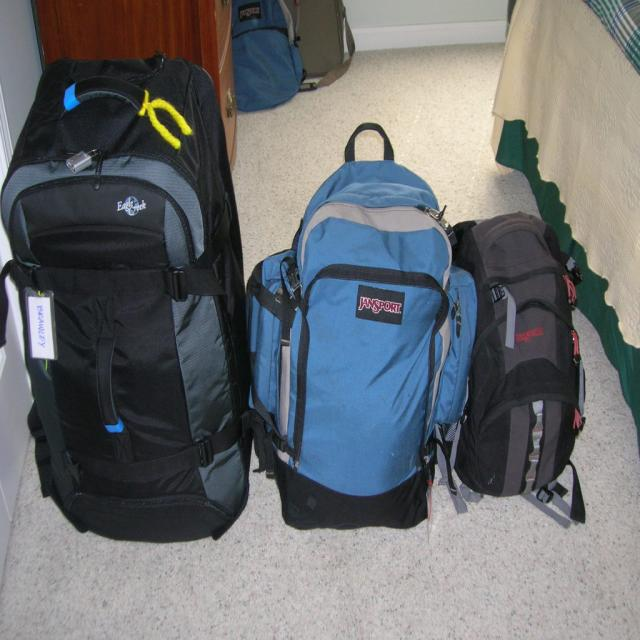backpack: (3, 61, 250, 532), (247, 127, 472, 534), (441, 212, 585, 498), (222, 1, 306, 106), (292, 1, 358, 77)
